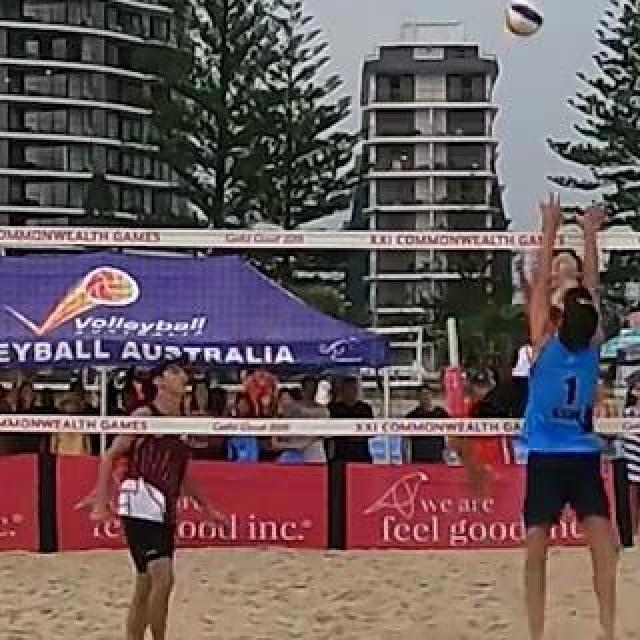volleyball: (506, 2, 544, 38)
